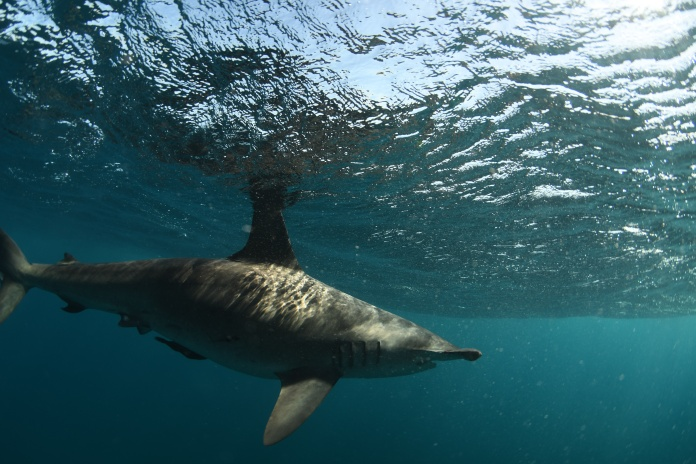Hammer: (1, 166, 487, 454)
